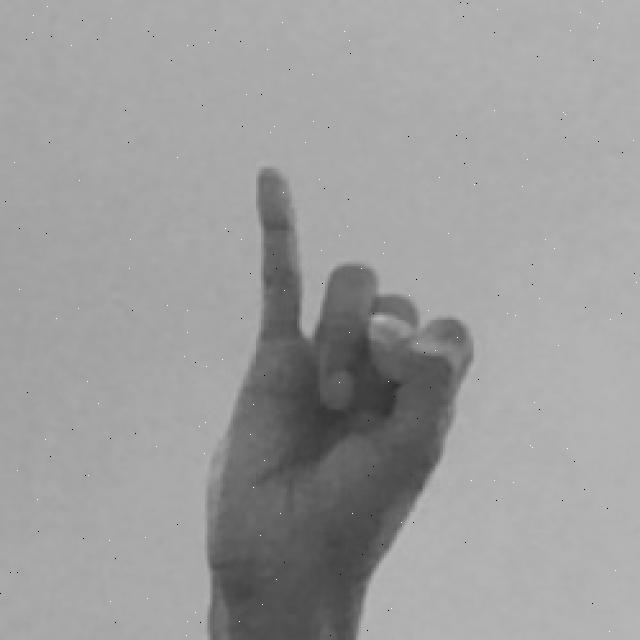I: (200, 161, 484, 640)
